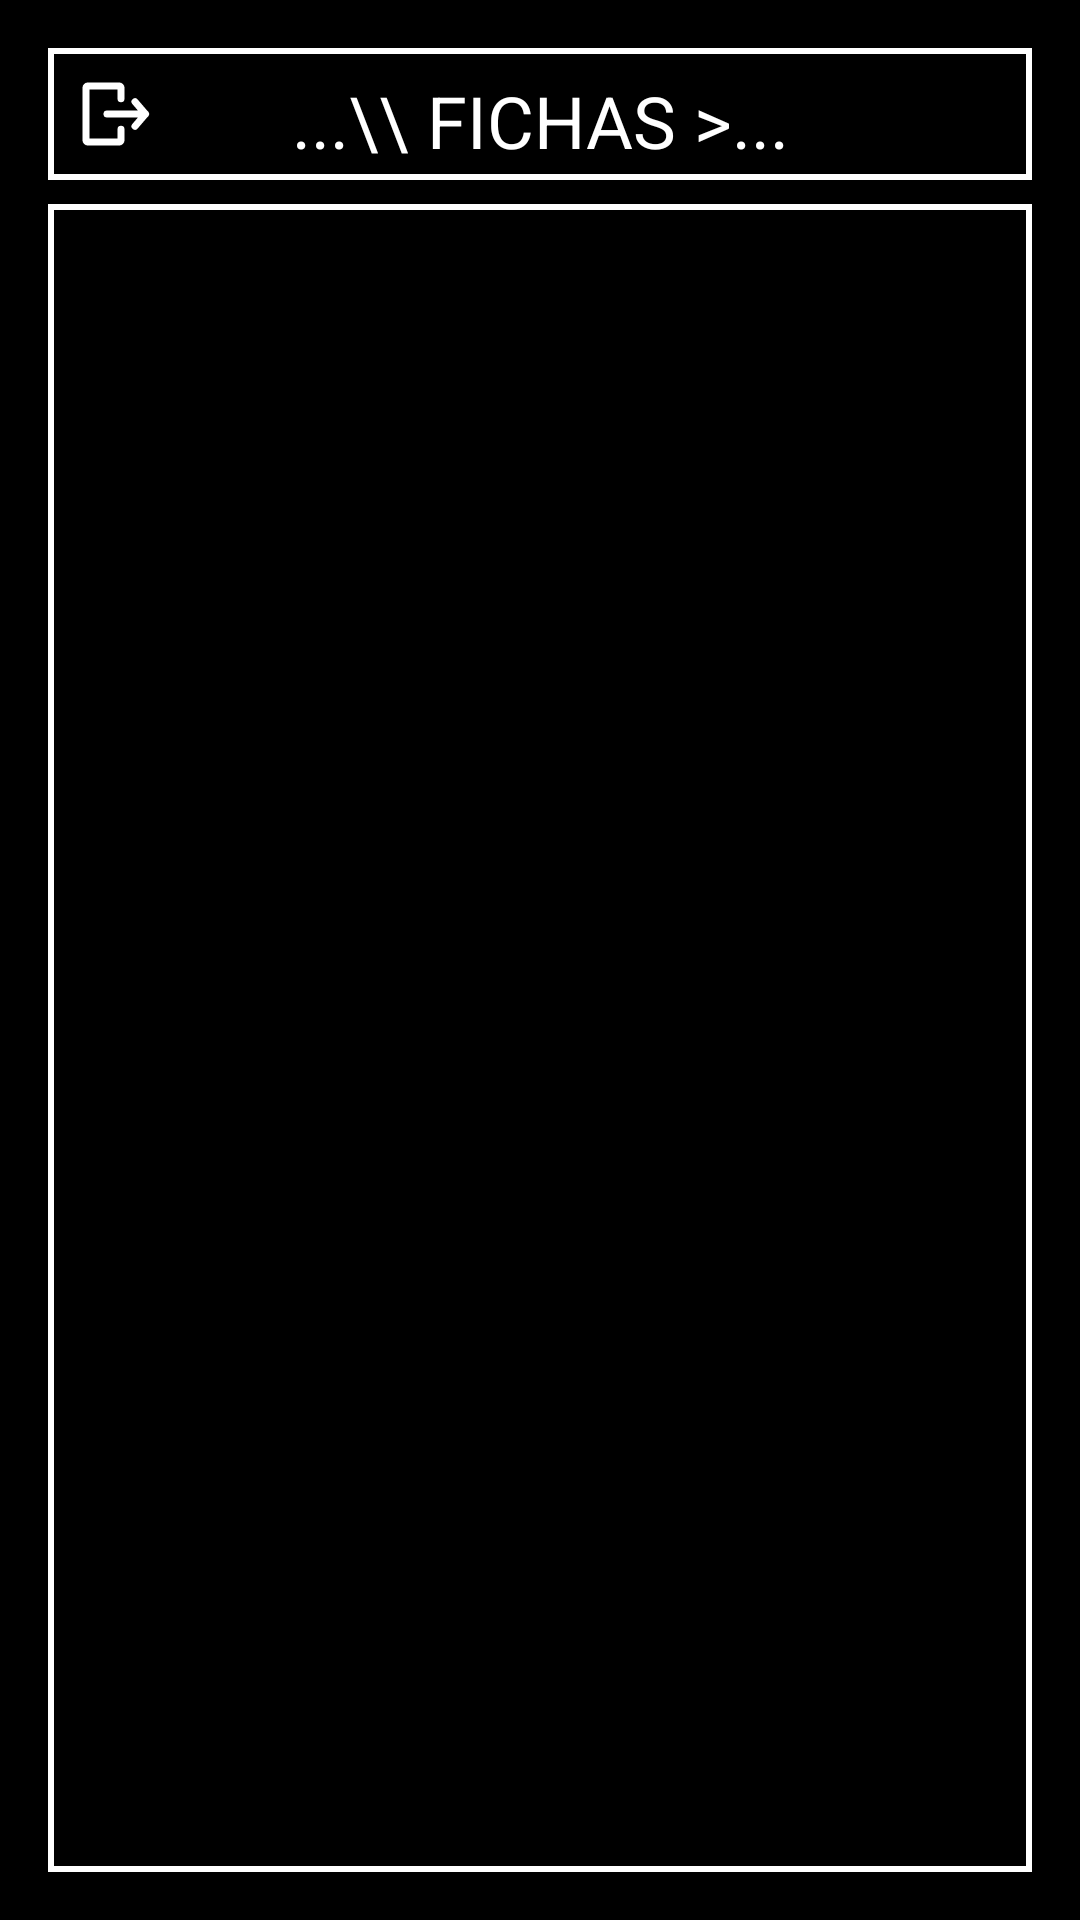

Screen size 1080w x 1920h. Icon name, then its center in pixels as [x,y]:
quit: [116,114]
